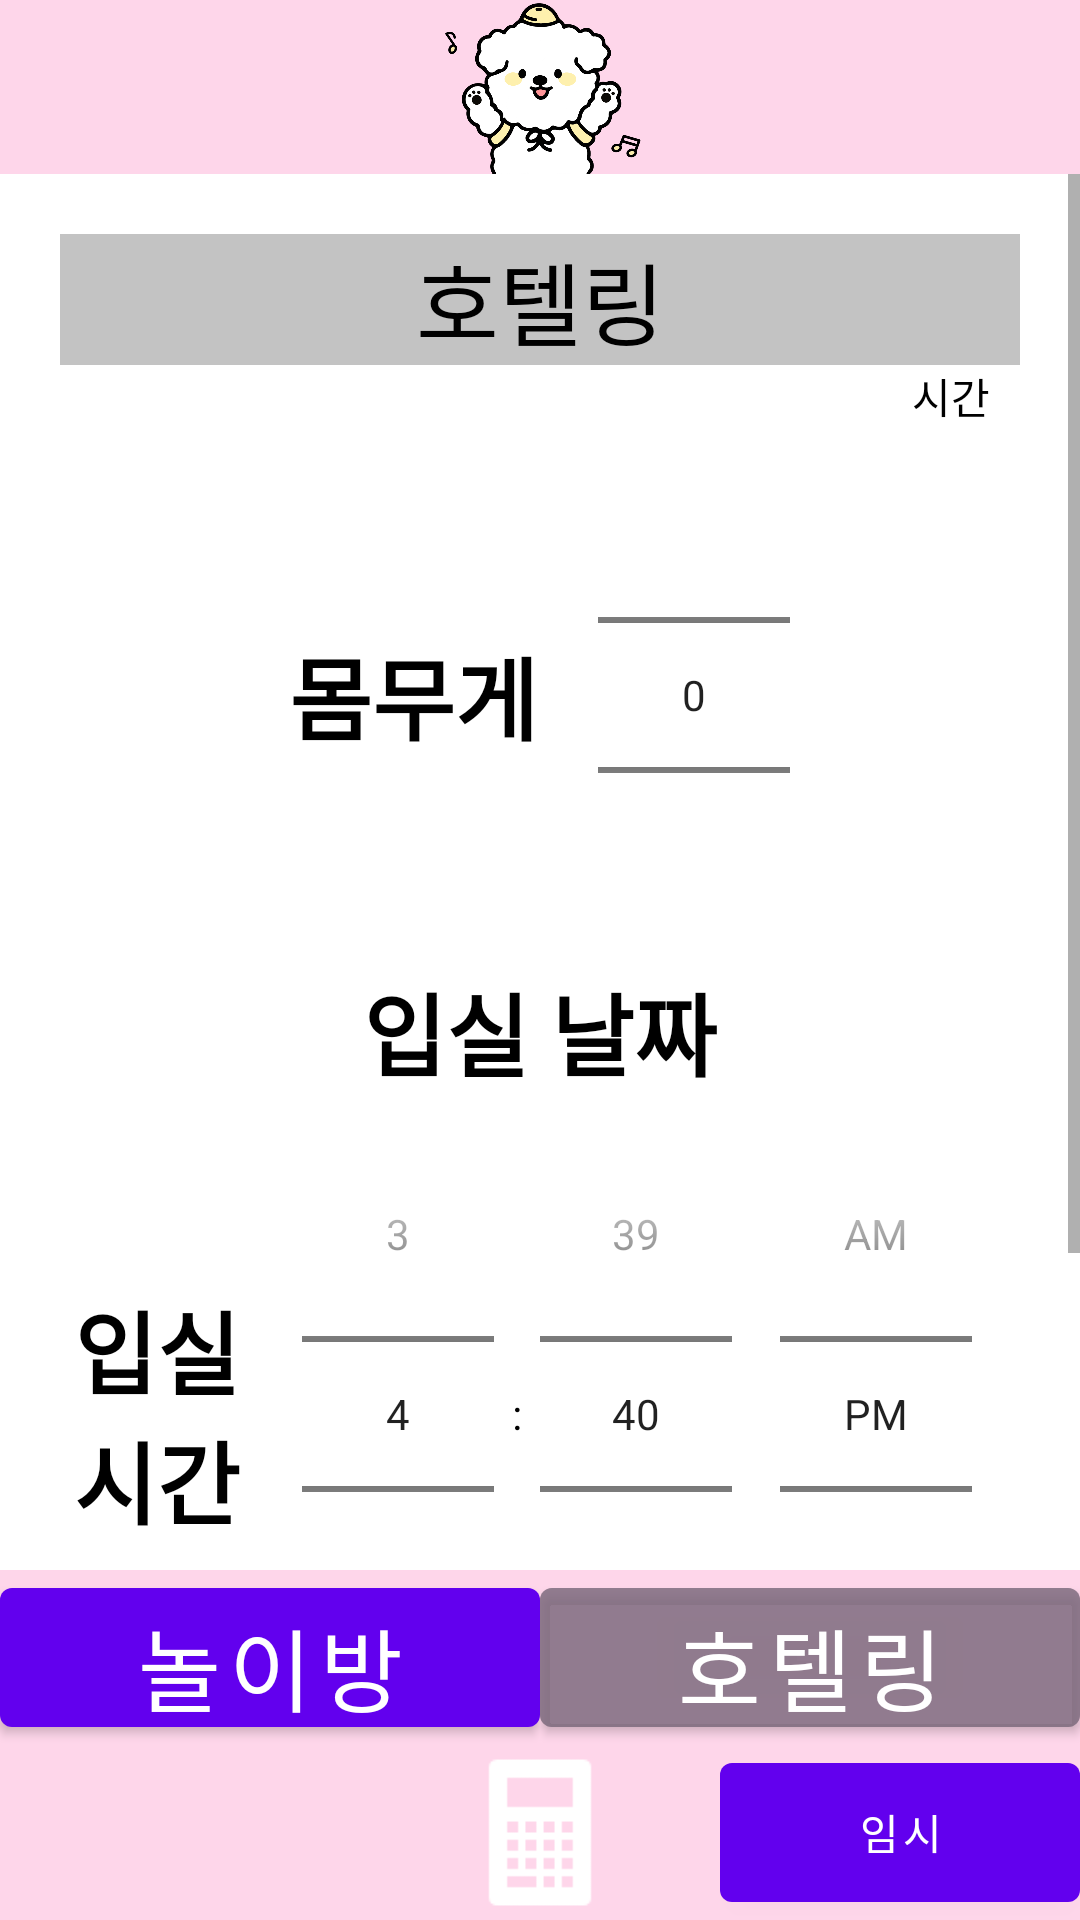

Named icons in this screenshot (1080x1920) and their centers, (x,y):
calculator: (540,1832)
